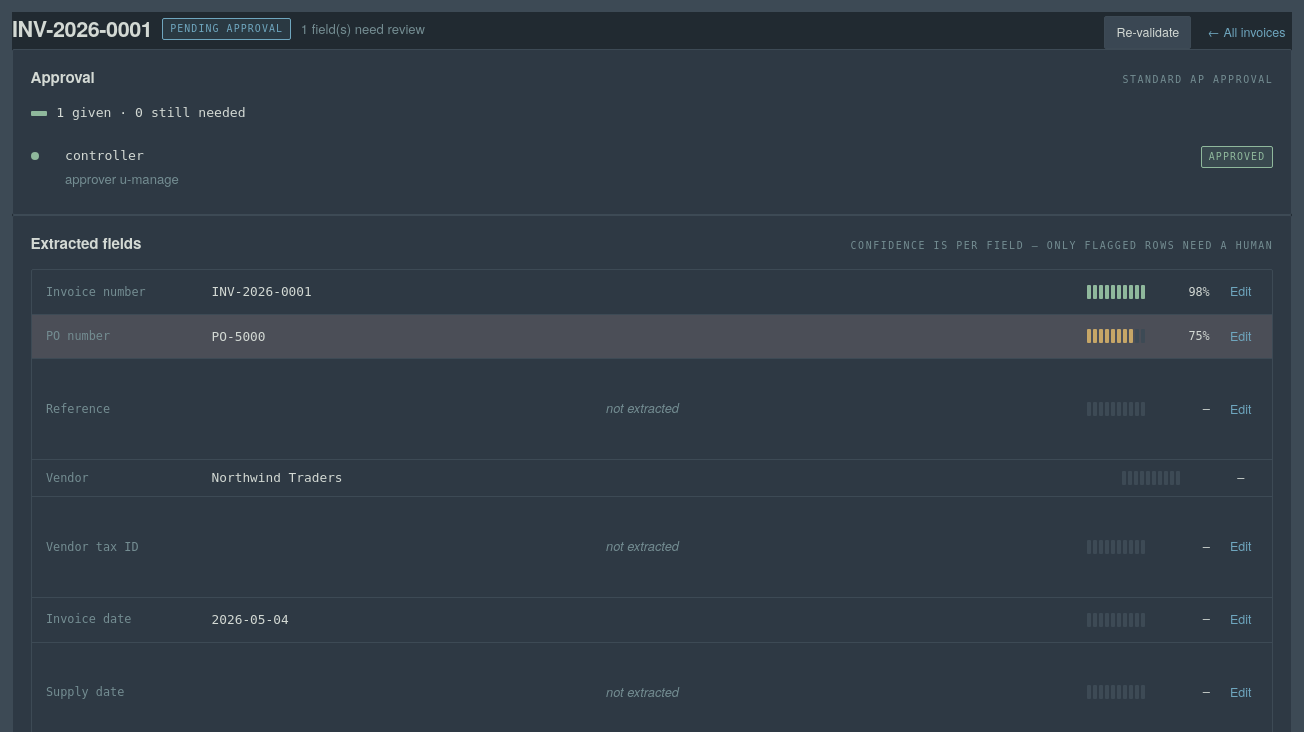
Test case: correcting a field › shows the discarded and the fresh approvals as the server reports them
Expected: the text "controller" is shown, x1=65 y1=148 x2=144 y2=163
Expected: the text "1 given · 0 still needed" is shown, x1=56 y1=103 x2=246 y2=123
Click the button "Edit" next to "75%" at [1241, 336], box x1=1223 y1=323 x2=1258 y2=350
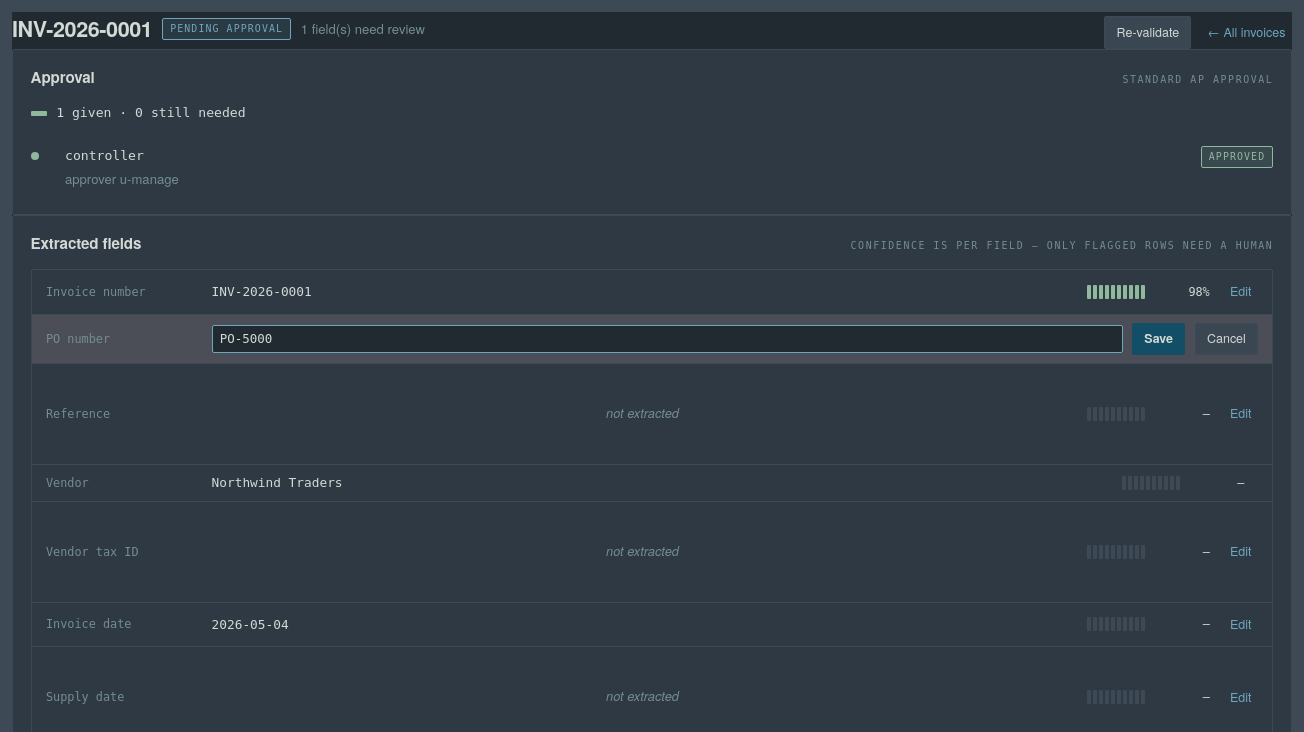
Type "PO-6000" into the field at [667, 339], box x1=212 y1=325 x2=1123 y2=353
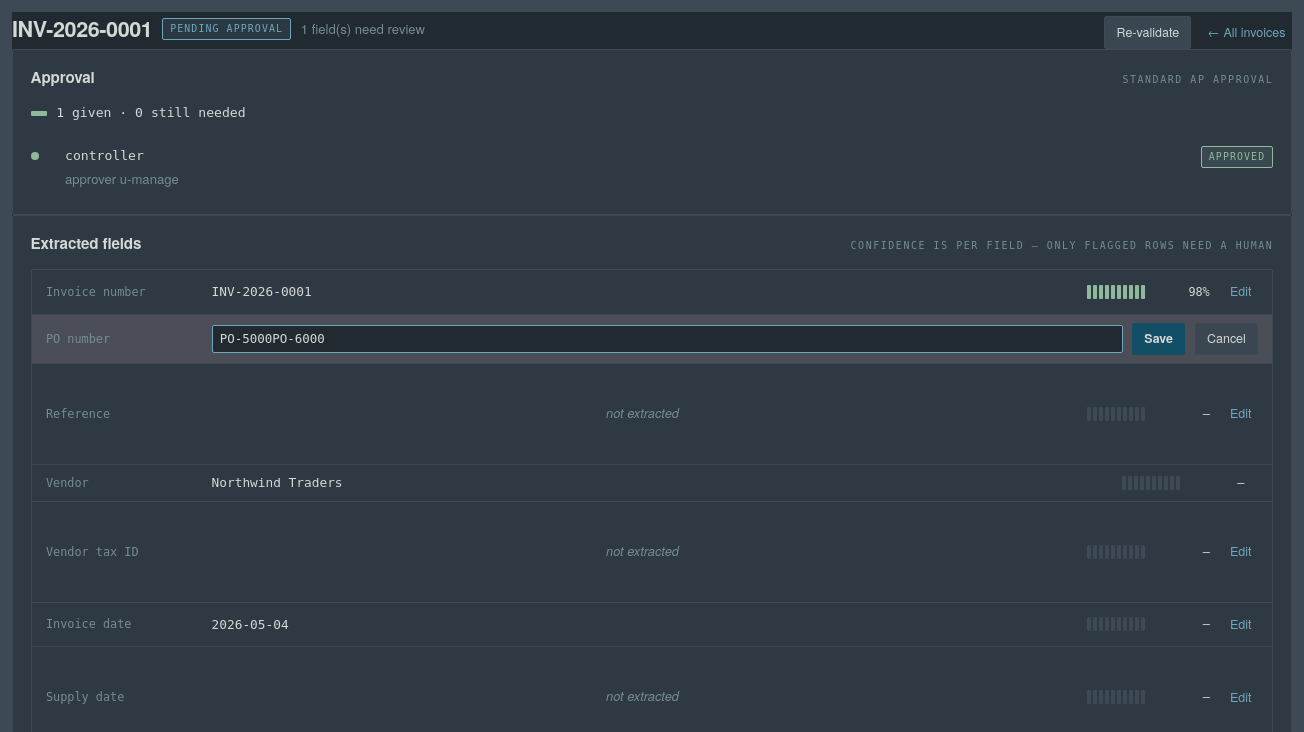
Click the button "Save" at [1159, 339], box x1=1132 y1=323 x2=1185 y2=355
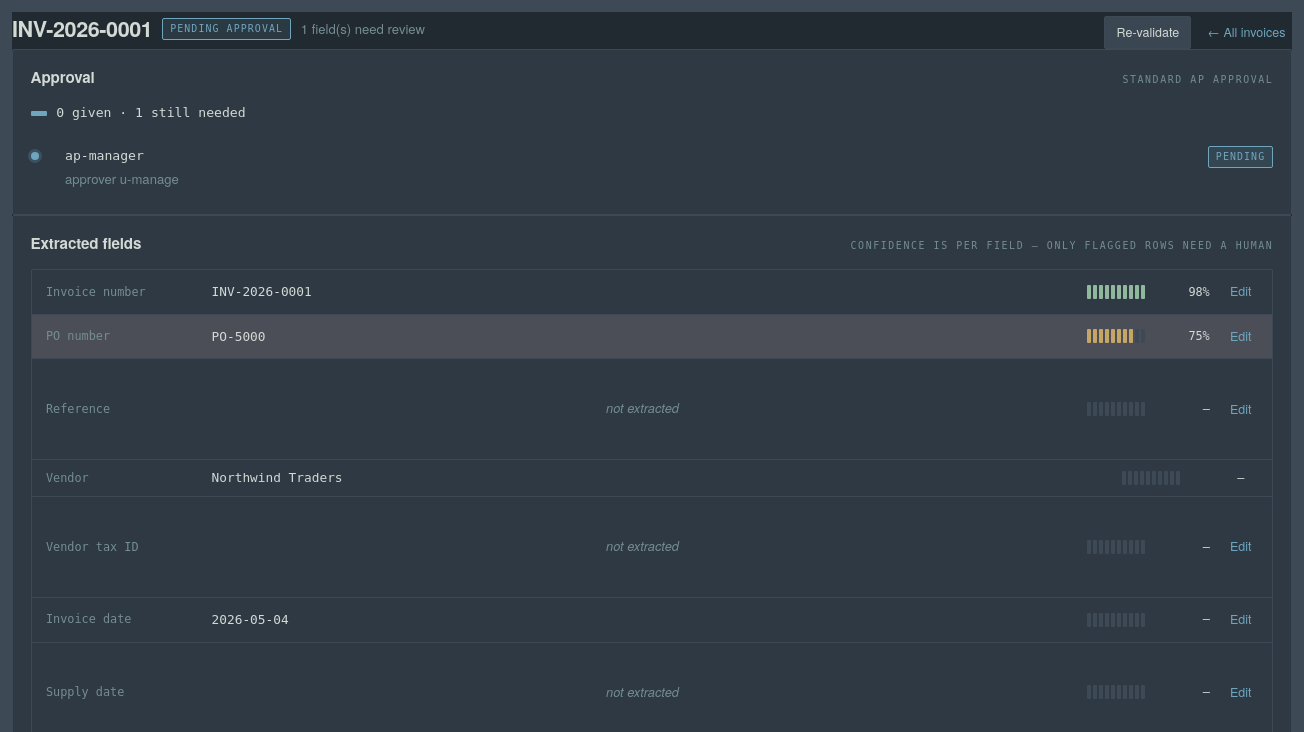
Result: the text "0 given · 1 still needed" is shown at x1=56 y1=103 x2=246 y2=123
Result: the text "ap-manager" is shown at x1=65 y1=148 x2=144 y2=163
Result: the text "controller" is gone
